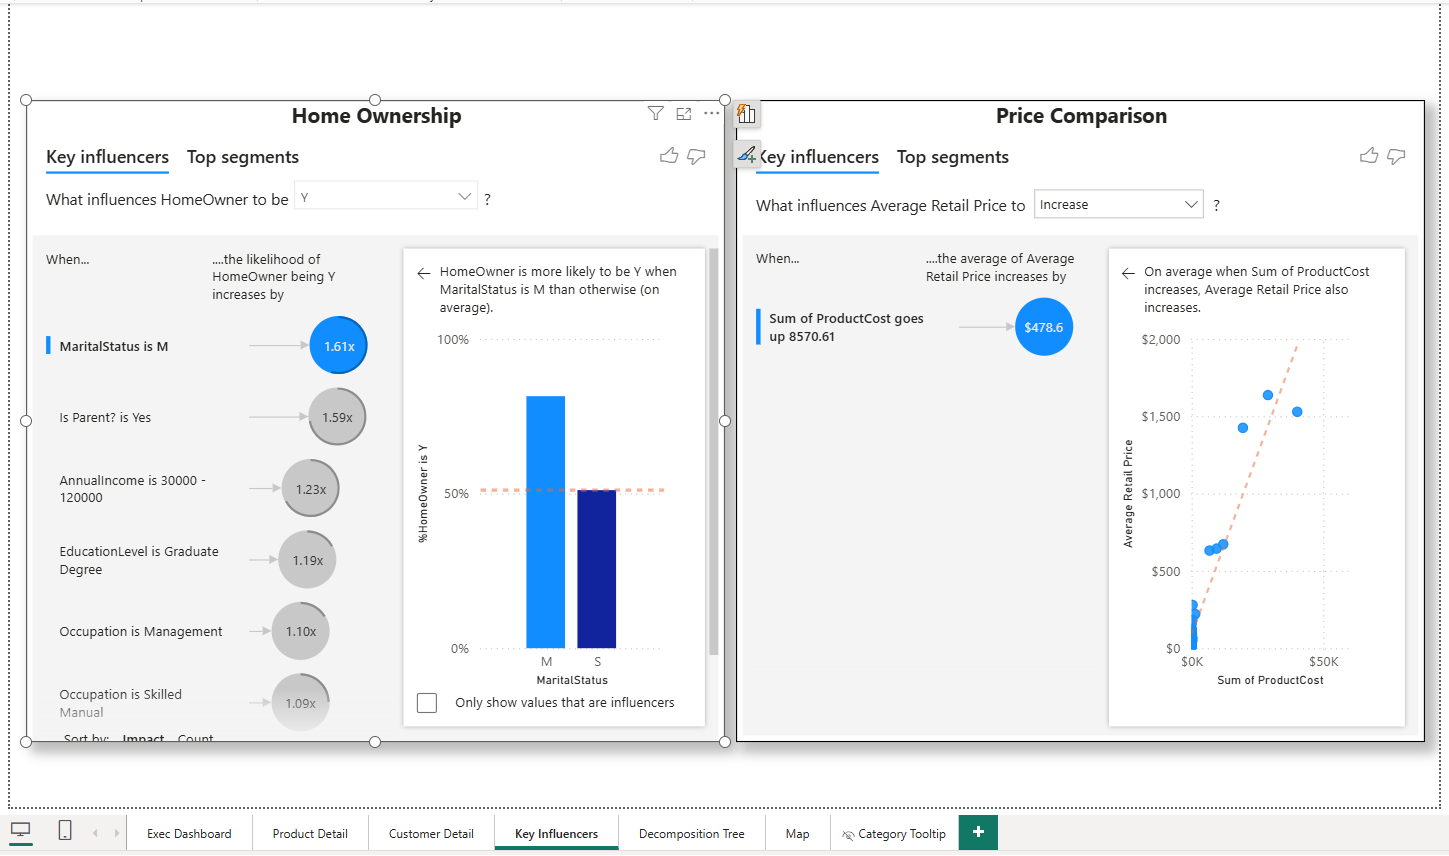

The page's visual inventory and layout, read from the dashboard file:
{"tool":"powerbi","page":{"name":"Key Influencers","canvas":[1280,720],"ordinal":3},"visuals":[{"type":"keyDriversVisual","title":"Home Ownership","fields":{"ExplainBy":["Customer Lookup.AnnualIncome","Customer Lookup.EducationLevel","Customer Lookup.Is Parent?","Customer Lookup.MaritalStatus","Customer Lookup.Occupation"],"Target":["Customer Lookup.HomeOwner"]},"box":[14.3,86.9,626,574.9],"z":0},{"type":"keyDriversVisual","title":"Price Comparison","fields":{"Details":["Product Subcategories Lookup.SubcategoryName"],"ExplainBy":["Sum(Product Lookup.ProductCost)"],"Target":["Measure Table.Average Retail Price"]},"box":[650.1,86.9,617,574.9],"z":1000}]}

Visuals, with their boxes in screenshot pixels (x1, y1, x2, y2):
"Home Ownership" keyDriversVisual: bbox=[24, 97, 722, 739]
"Price Comparison" keyDriversVisual: bbox=[733, 97, 1422, 739]
